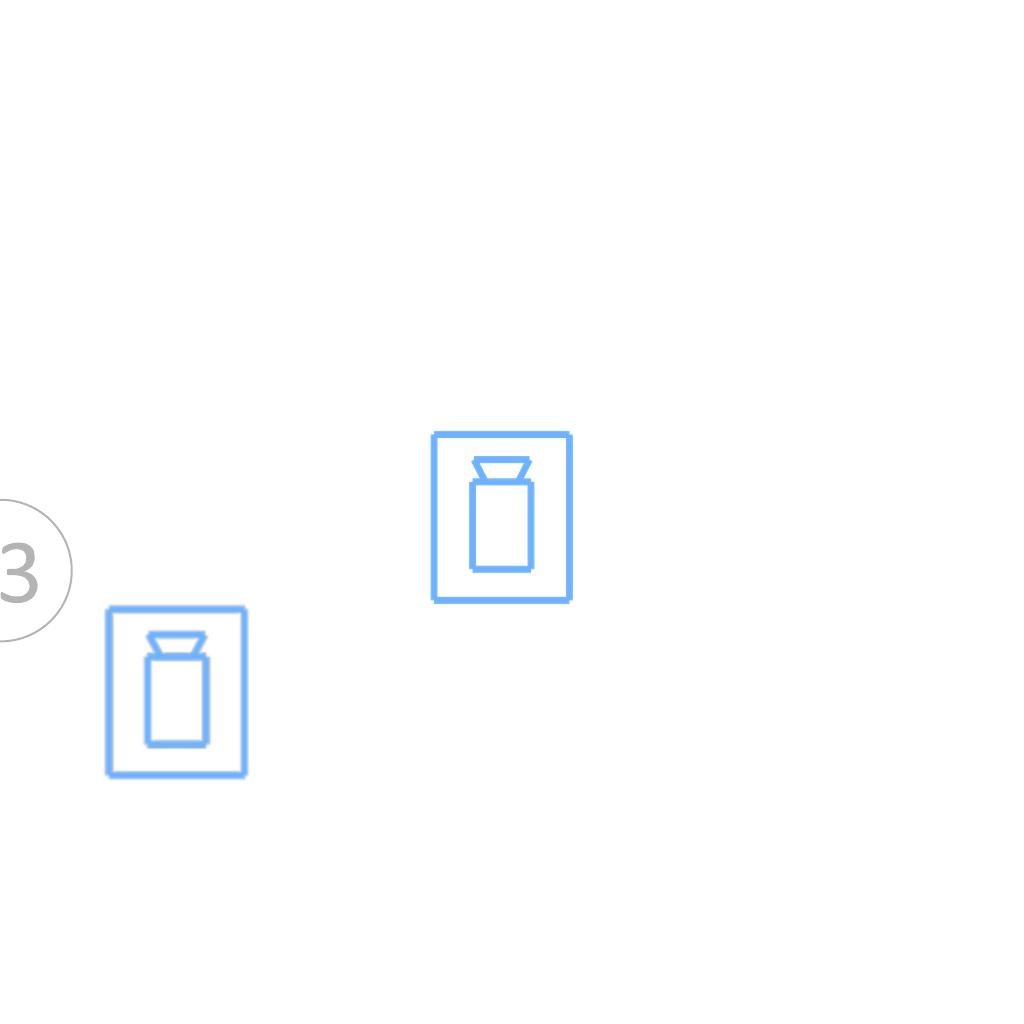KFO_Kamera_mit_Festobjektiv: (101, 602, 255, 784), (426, 427, 580, 609)
